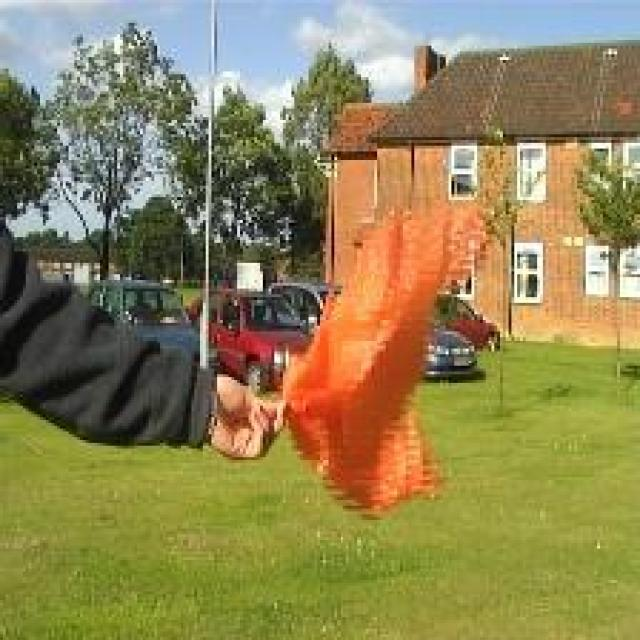other: (280, 194, 466, 515)
